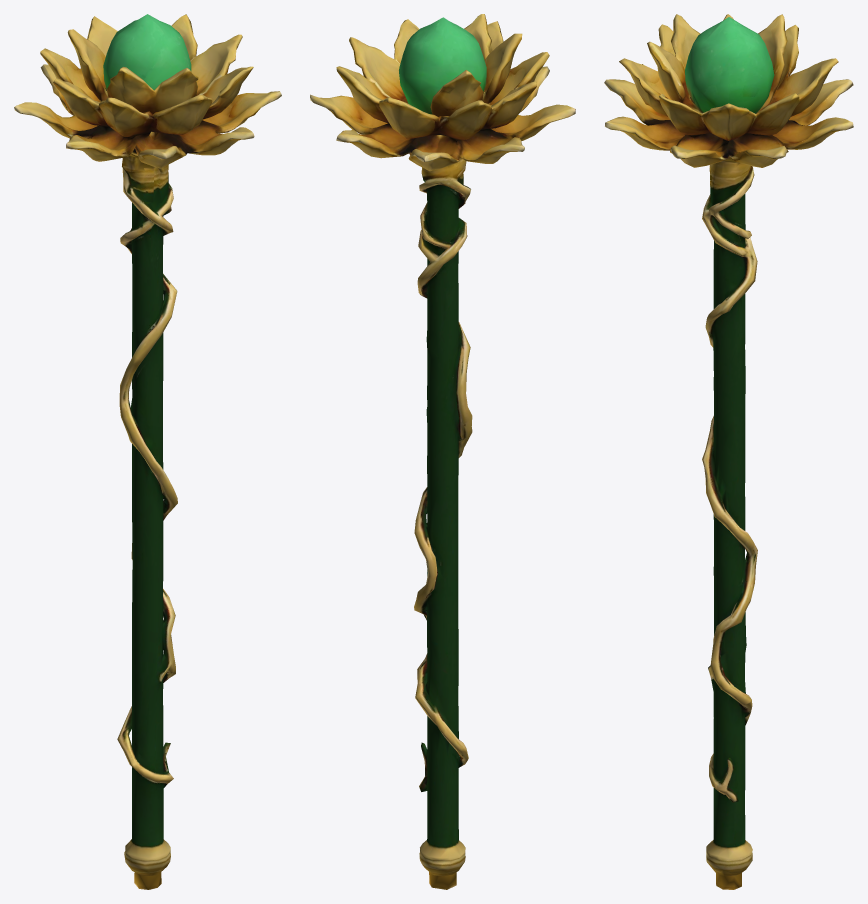
File: kimaya_scepter.glb
3 views of the same model, side by side, from view 1: azimuth 30°, elevation 25°; view 2: azimuth 150°, elevation 25°; view 3: azimuth 270°, elevation 25° (orthographic).
Visible parts, largest first — view 1: tripo_node_7800613b-3633-4ca1-b66c-3c1772764aa2; view 2: tripo_node_7800613b-3633-4ca1-b66c-3c1772764aa2; view 3: tripo_node_7800613b-3633-4ca1-b66c-3c1772764aa2.
Part boxes in pixels (x1,y1,x2,y2): tripo_node_7800613b-3633-4ca1-b66c-3c1772764aa2: (14,14,281,889); tripo_node_7800613b-3633-4ca1-b66c-3c1772764aa2: (310,14,575,889); tripo_node_7800613b-3633-4ca1-b66c-3c1772764aa2: (604,14,853,889).
Size of the model in its own units: 0.2598 by 1 by 0.2606.
Materials: 1 (1 with a texture image).
